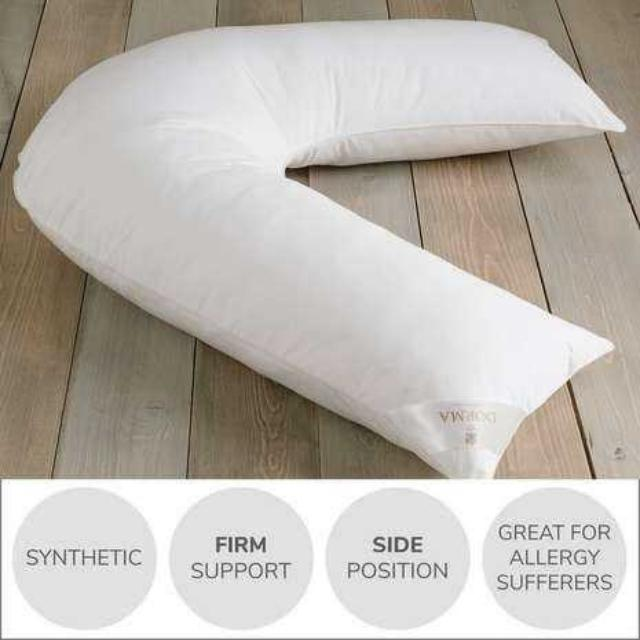pillow: (12, 16, 624, 478)
